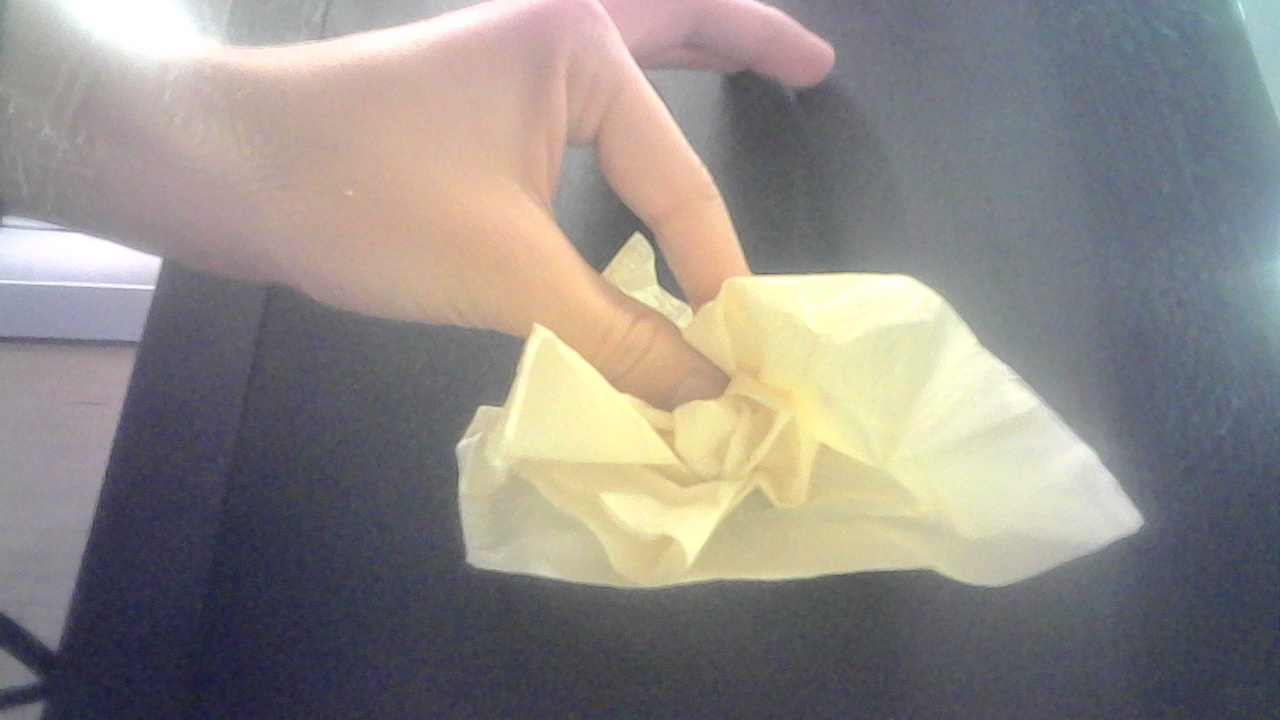Paper_Recycling: (453, 289, 1075, 584)
